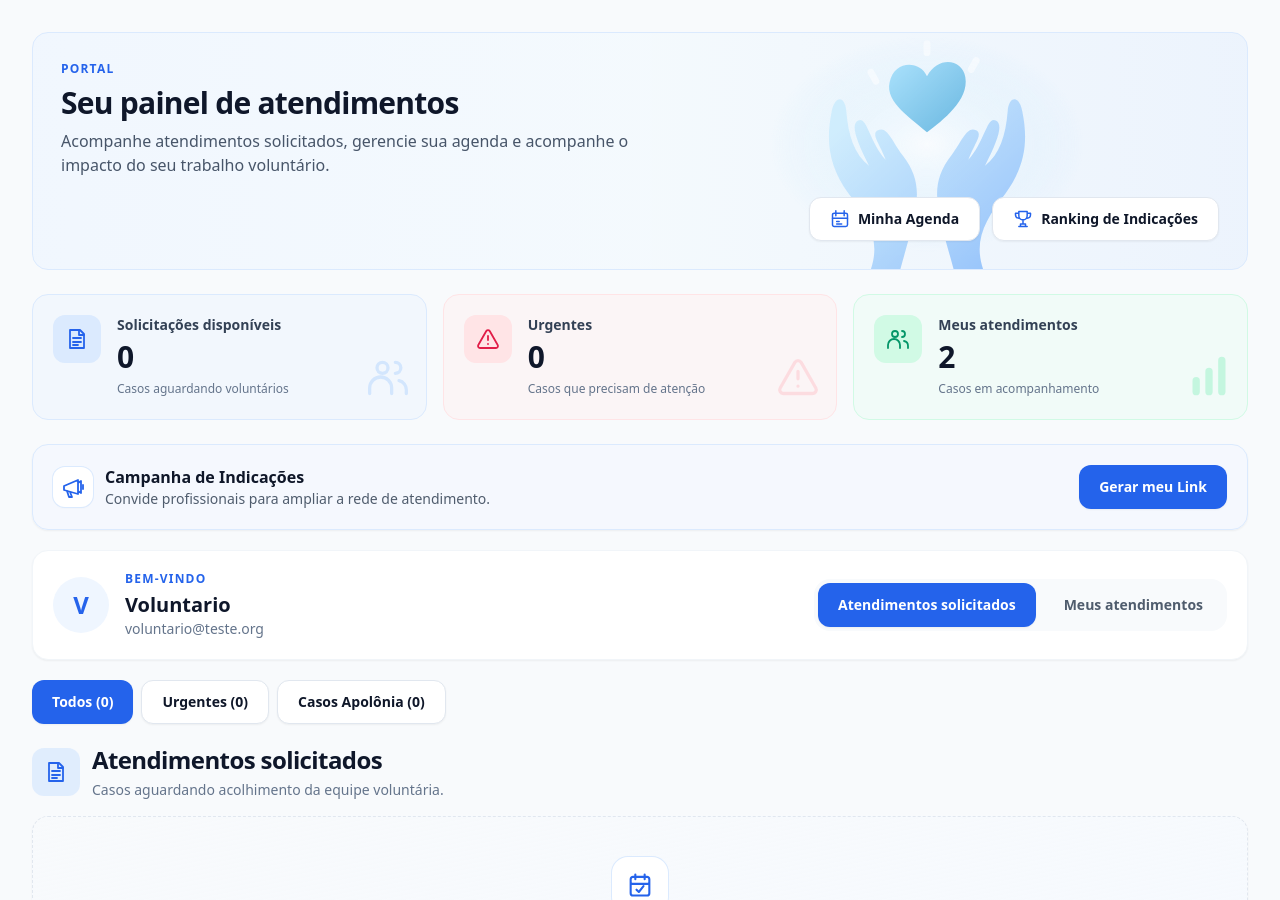
PortalVoluntario › deve exibir nome do paciente como titulo, ordenar por dataAtualizacao e exibir badge de Nova Mensagem
This screenshot has width=1280, height=900.
// Clicar na aba "Meus atendimentos"
Click the button "Meus atendimentos" at coordinates (1133, 605), box [1044,583,1223,627]
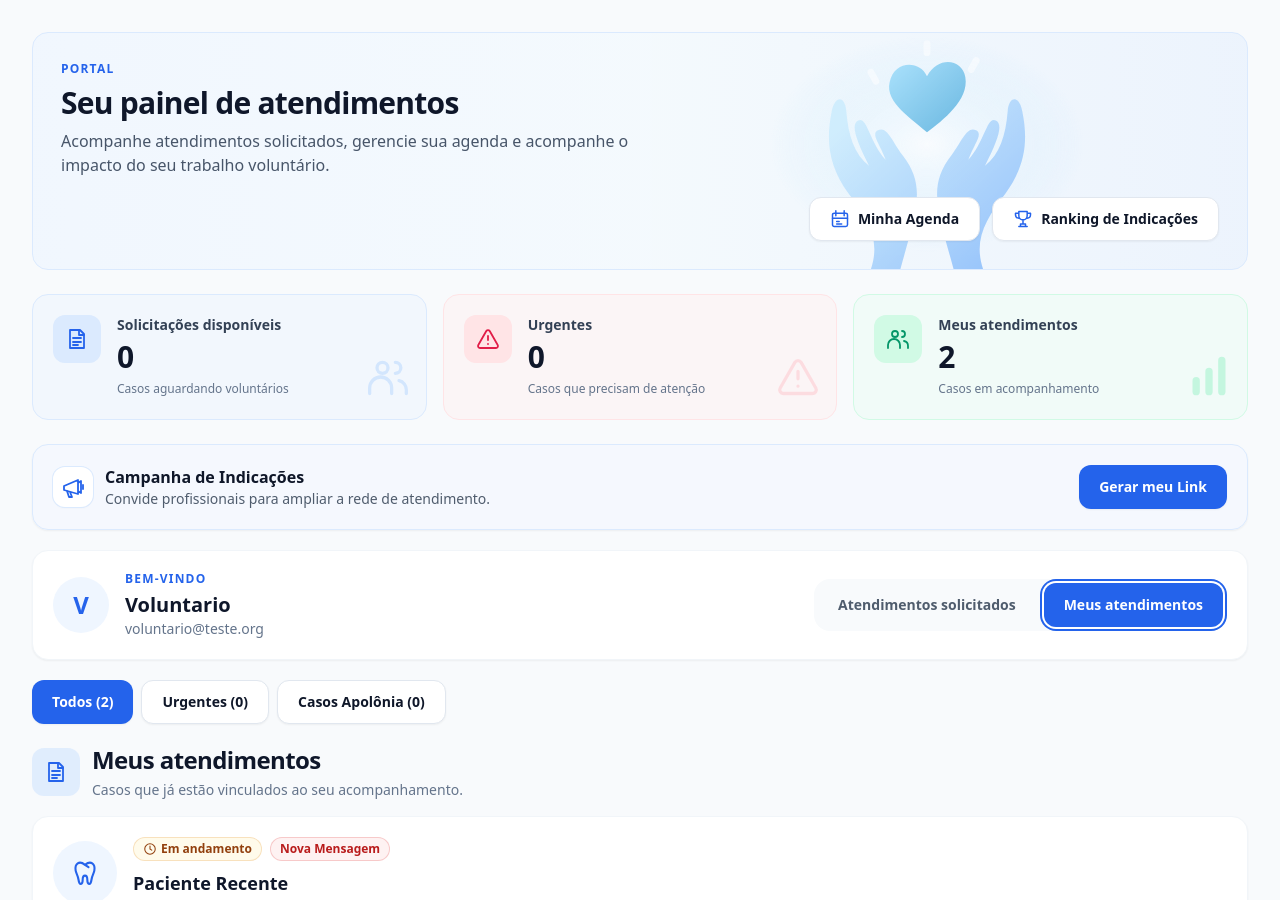
expect the heading "Paciente Recente" is shown: met, box [133,871,288,895]
expect the text "Nova Mensagem" is shown: met, box [270,837,390,861]
